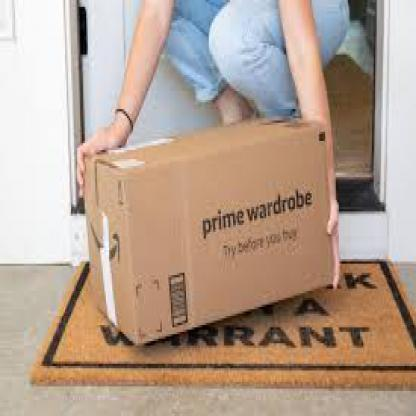package: (79, 113, 340, 352)
